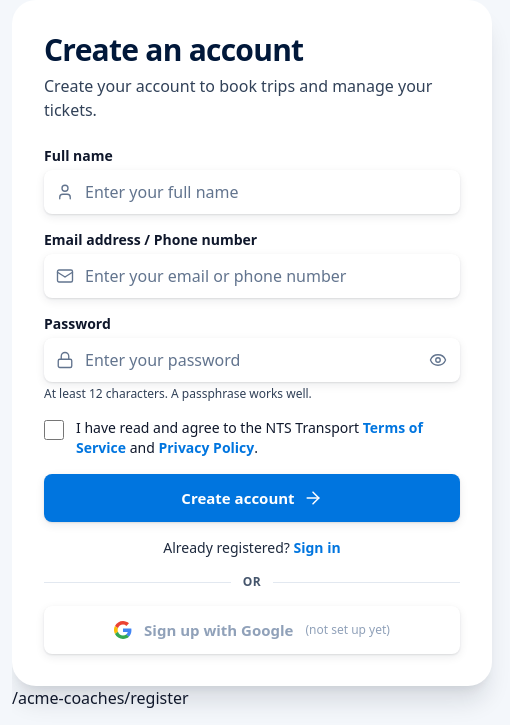
Test: Sign up with a phone number › sends the number as typed, then goes to the code screen with it in international form
The width and height of the screenshot is (510, 725).
Expected: the field labelled "Email address / Phone number" is shown, [44,254,460,298]
Type "Fanta Jalloh" into the field labelled "Full name". click: coordinates (252, 192)
box: [44,170,460,214]
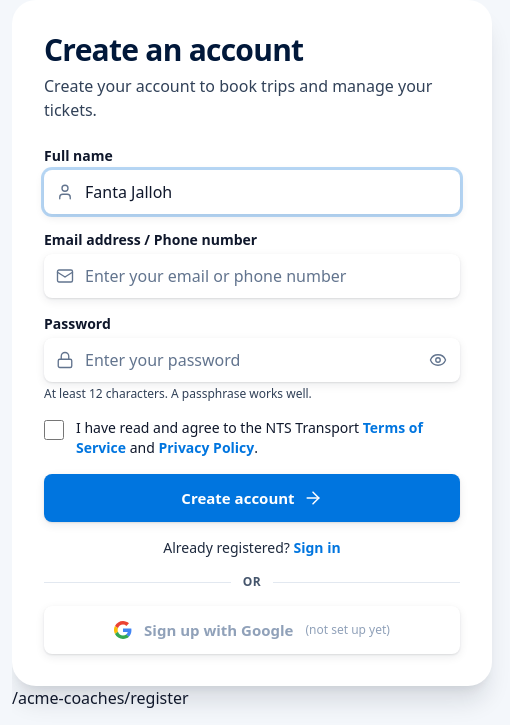
Type "076 123 456" into the field labelled "Email address / Phone number". click: coordinates (252, 276)
box: [44,254,460,298]
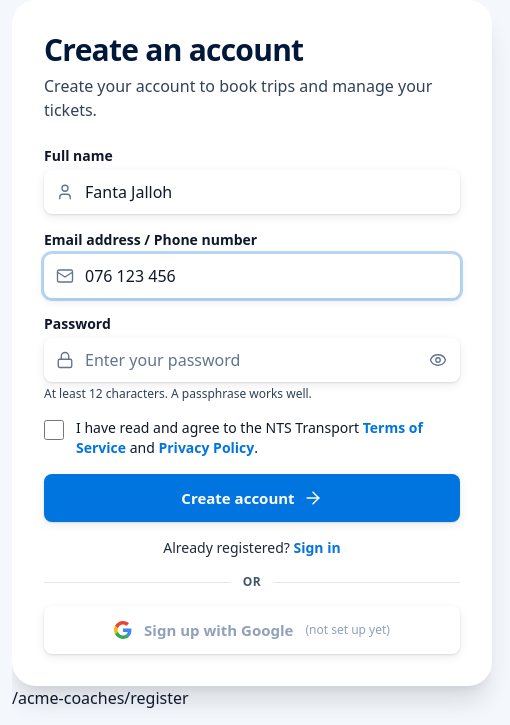
Type "a-long-enough-password" into the password field labelled "Password". click: coordinates (252, 360)
box: [44,338,460,382]
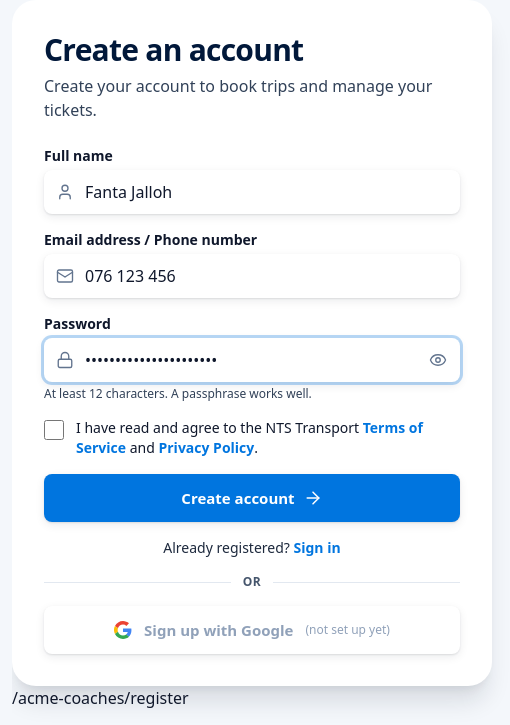
Click the checkbox. click: coordinates (54, 430)
box: [44,420,64,440]
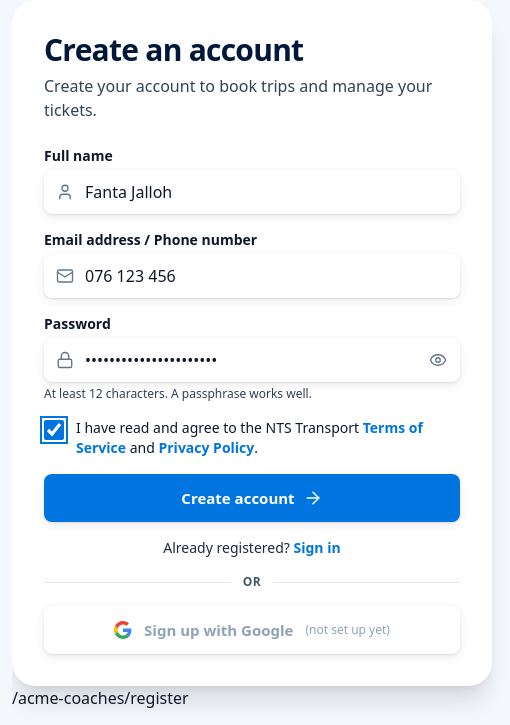
Click the button "Create account". click: coordinates (252, 498)
box: [44,474,460,522]
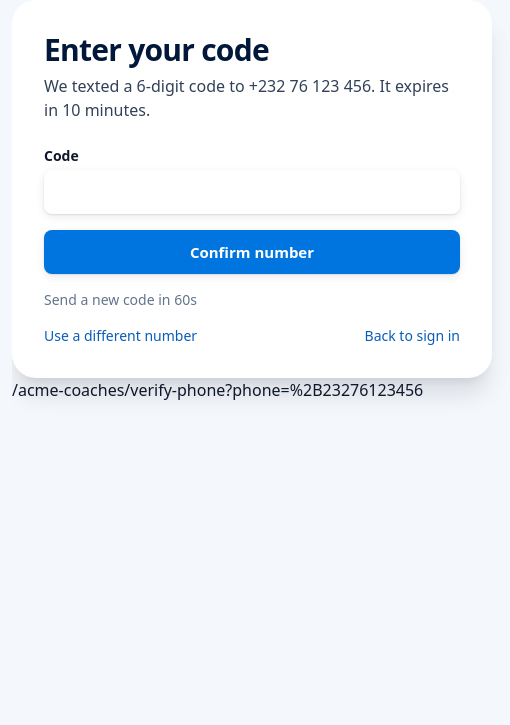
Expected: the text with test id "where" shows "/verify-phone", [12,379,423,401]
